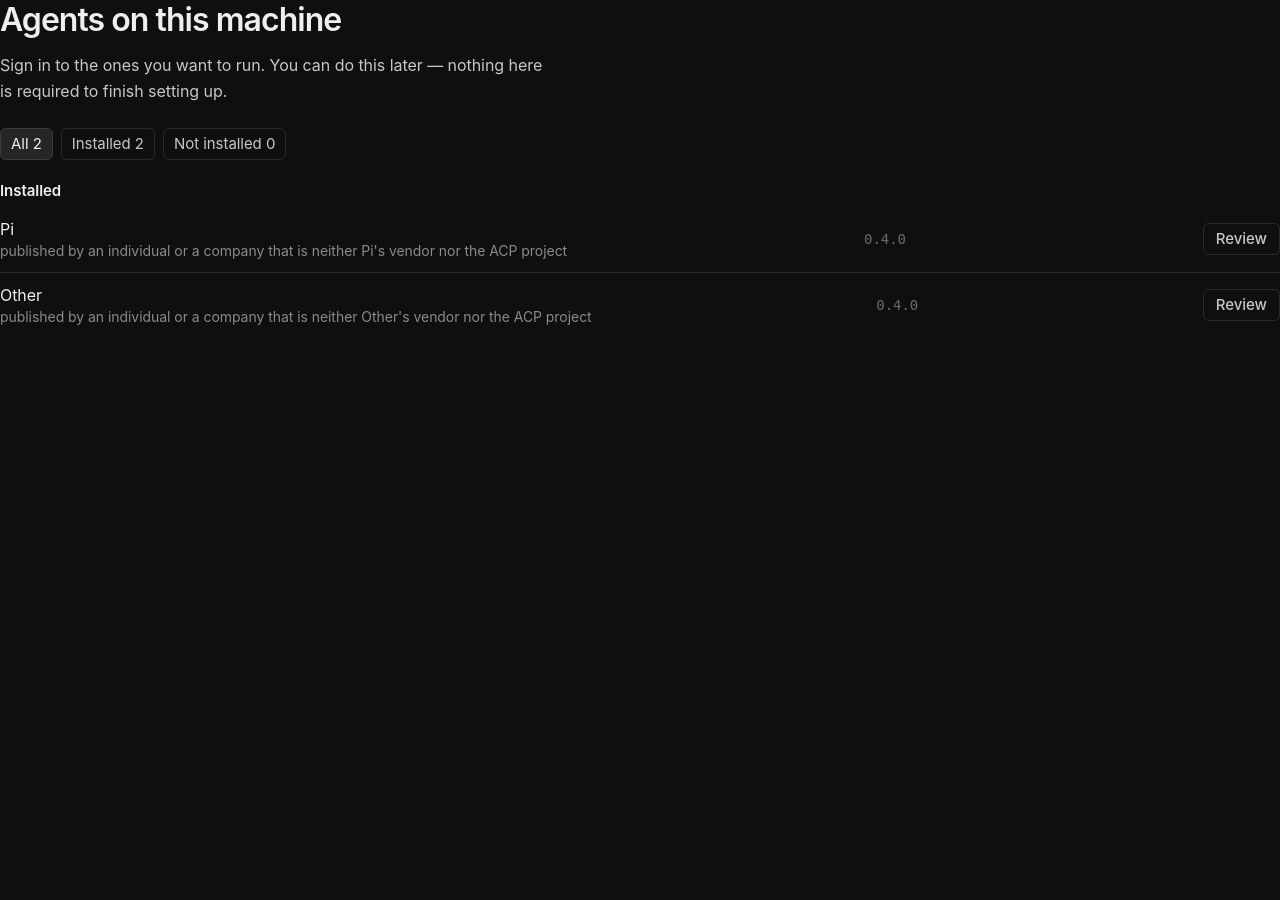
Test: opens from the row that needs it, carrying that row's own adapter
Click the 2nd button "Review" at (1241, 305), box [1203, 289, 1279, 321]
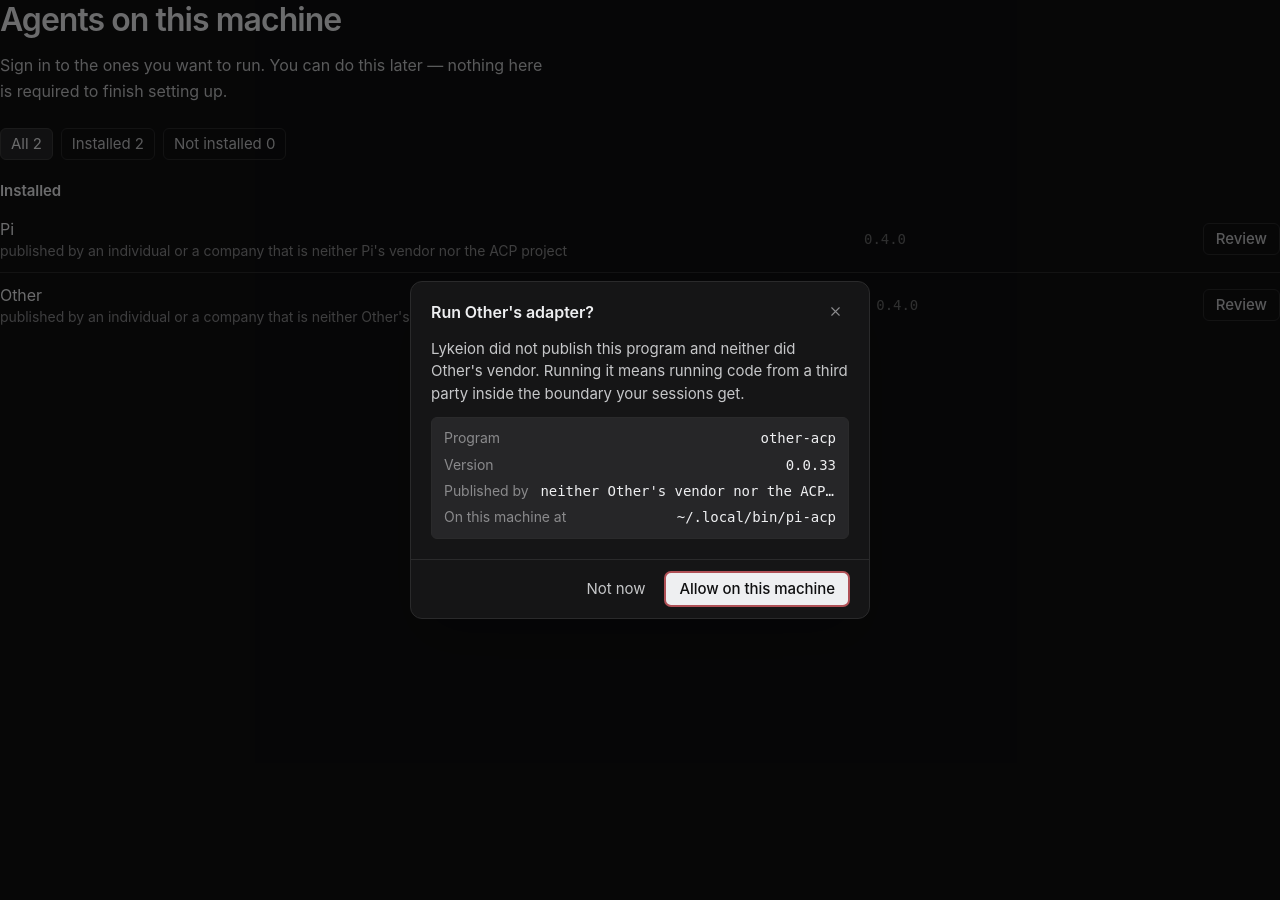
Check: the heading "Run Other's adapter?" is shown, box [431, 300, 594, 324]
Check: the text "other-acp" is shown, box [761, 428, 836, 449]
